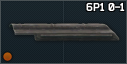AKM dust cover 6P1 0-1: (0, 0, 127, 64)
